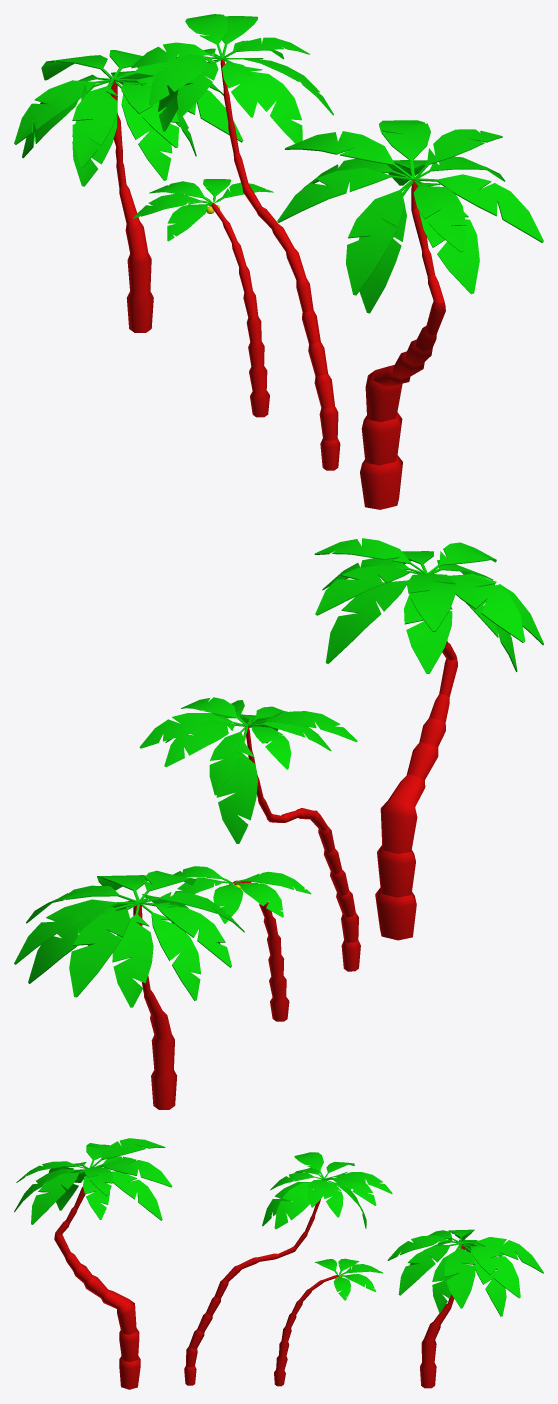
File: Curved_Trees.fbx
3 views of the same model, one above another, from view 1: azimuth 30°, elevation 25°; view 2: azimuth 150°, elevation 25°; view 3: azimuth 270°, elevation 25° (orthographic). The views are drawn at different scales.
Parts seen in each view (by area): view 1: Tall_Curved_Tree, Medium_Tree, Tall_Tree, Curved_Tree; view 2: Tall_Curved_Tree, Medium_Tree, Tall_Tree, Curved_Tree; view 3: Tall_Curved_Tree, Medium_Tree, Tall_Tree, Curved_Tree.
Part boxes in pixels (left/top/right/bottom): Tall_Curved_Tree: left=277, top=120, right=543, bottom=509; Medium_Tree: left=14, top=50, right=243, bottom=332; Tall_Tree: left=131, top=14, right=340, bottom=470; Curved_Tree: left=133, top=179, right=273, bottom=417; Tall_Curved_Tree: left=314, top=538, right=543, bottom=940; Medium_Tree: left=14, top=870, right=244, bottom=1109; Tall_Tree: left=139, top=697, right=360, bottom=971; Curved_Tree: left=173, top=866, right=311, bottom=1021; Tall_Curved_Tree: left=14, top=1138, right=172, bottom=1389; Medium_Tree: left=387, top=1229, right=543, bottom=1388; Tall_Tree: left=184, top=1152, right=392, bottom=1385; Curved_Tree: left=274, top=1258, right=383, bottom=1386.
Size of the model in its own units: 5.64 by 8.55 by 17.86.
